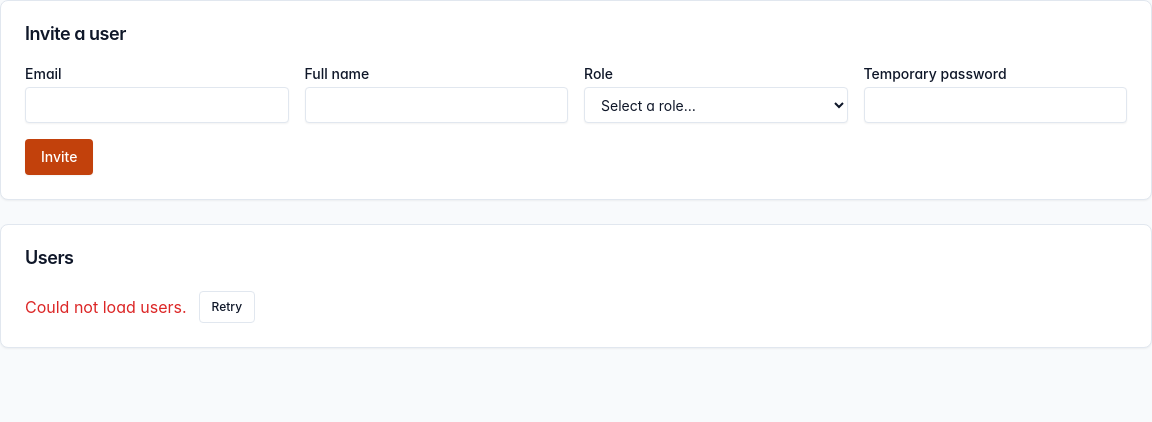
Test: UsersPage › shows an error state with a working retry button
Expected: the text "Could not load users." is shown, [25, 295, 187, 319]
Click the button "Retry". click: (227, 307)
box: [199, 291, 255, 323]
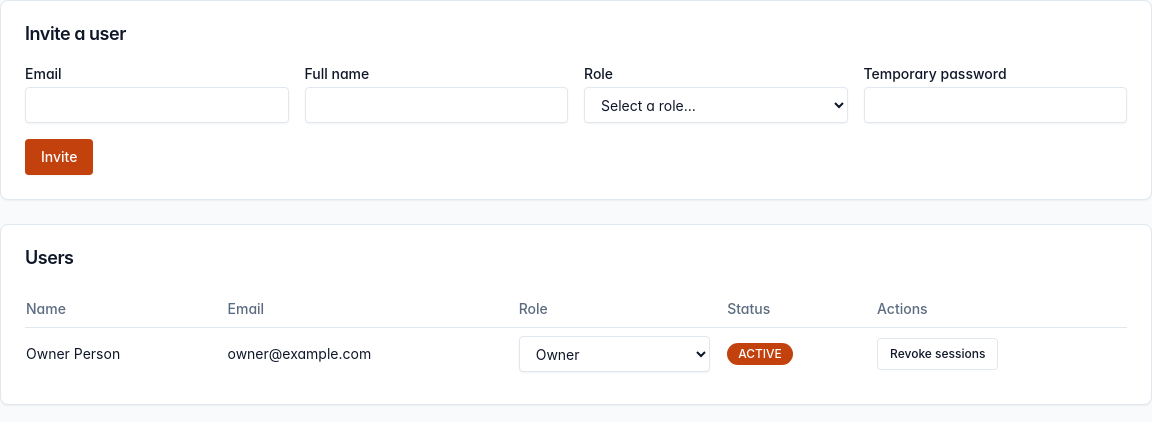
Expected: the text "owner@example.com" is shown, [226, 328, 518, 380]
